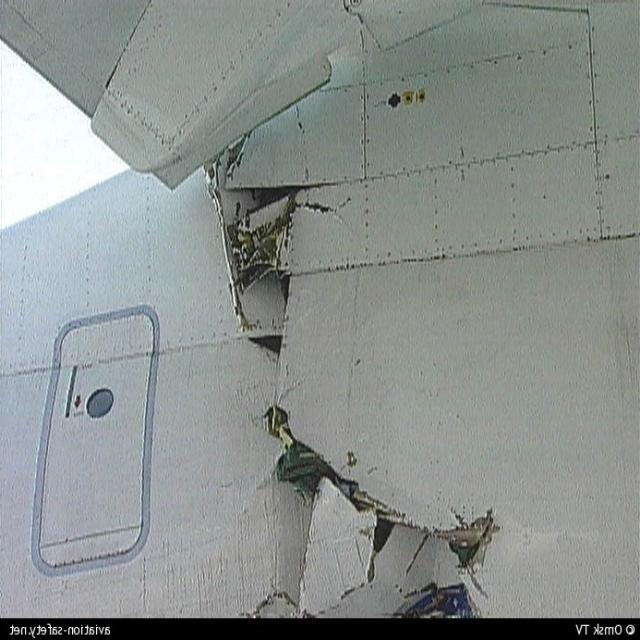crack: (244, 401, 503, 603)
